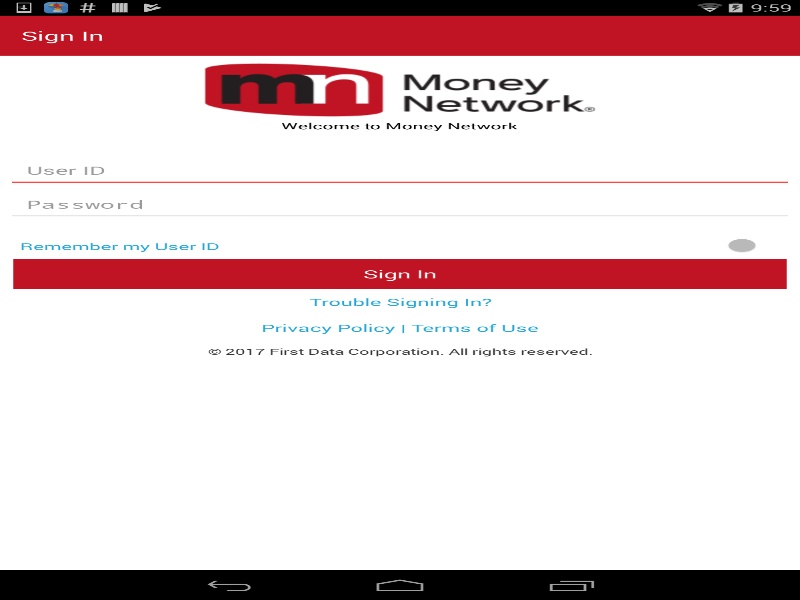Button: (13, 259, 786, 289)
Input: (6, 153, 793, 187), (6, 187, 793, 221)
